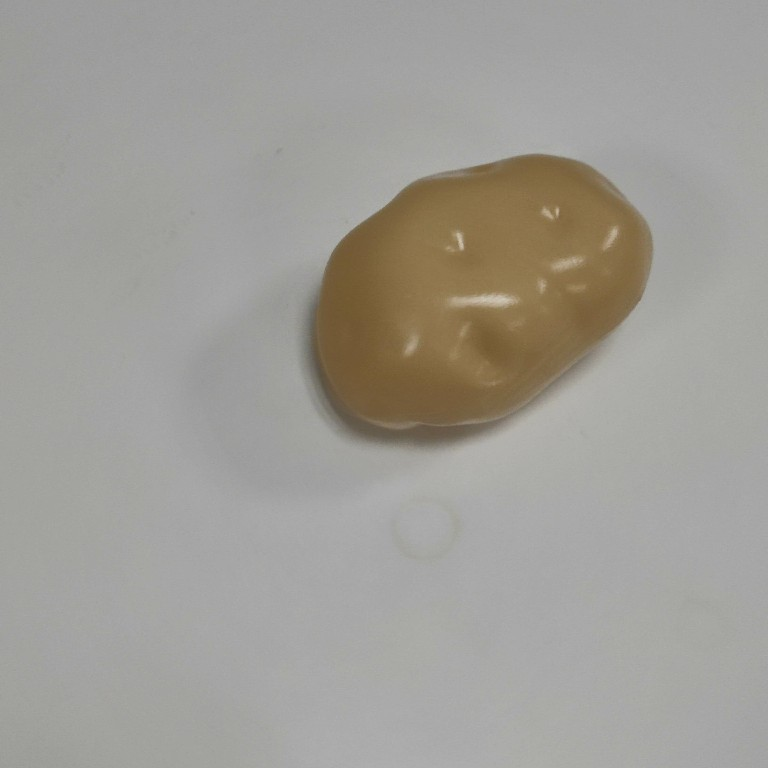fruit_potato: (306, 150, 658, 435)
